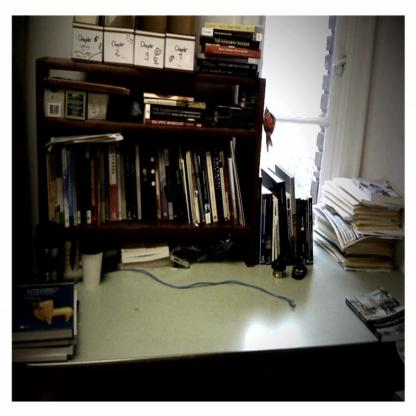book: (42, 134, 246, 230), (313, 178, 404, 279), (257, 160, 314, 268), (12, 278, 82, 364), (196, 20, 266, 78), (342, 287, 408, 342), (142, 89, 205, 131), (44, 90, 110, 118)
